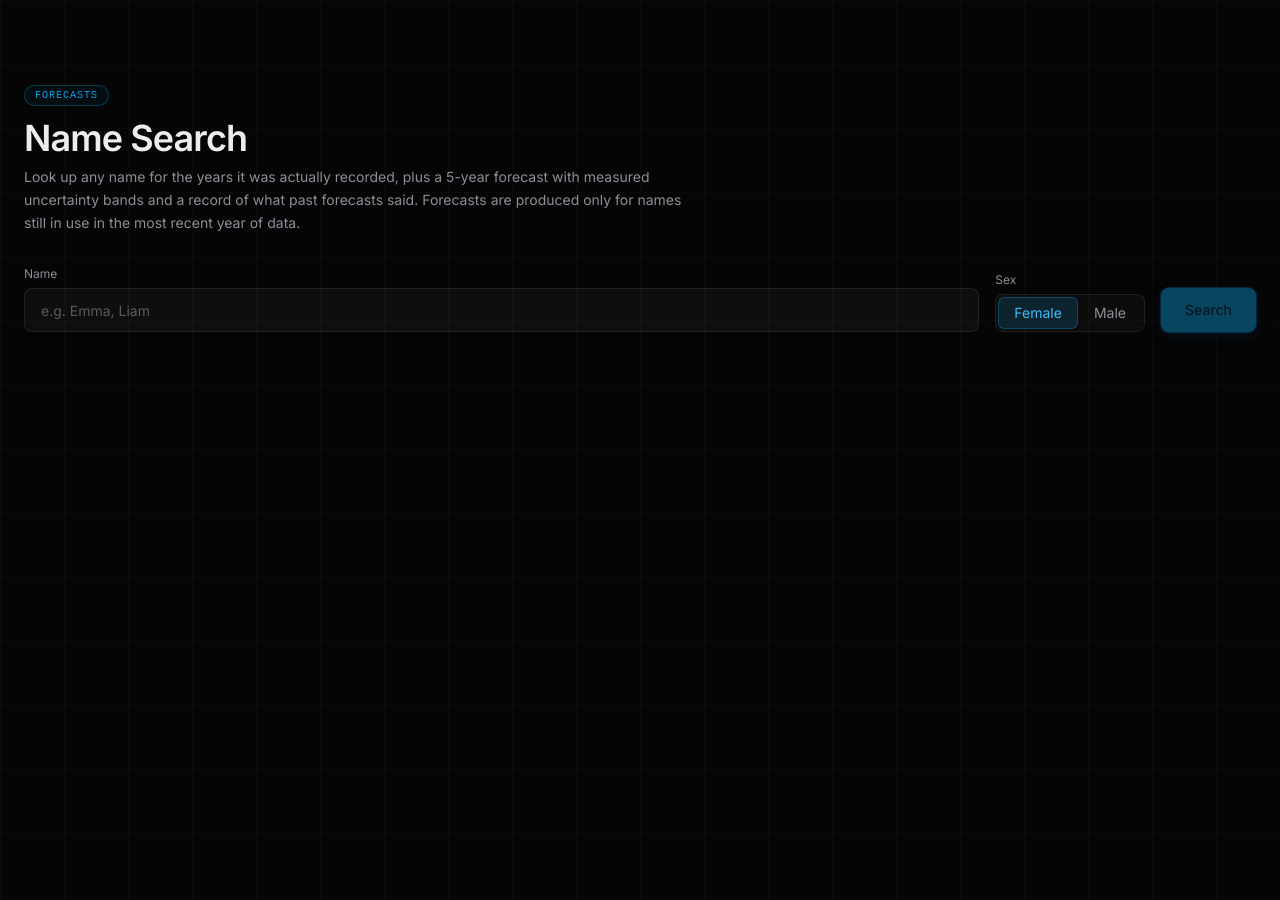
it: SearchPage headline statistics › describes the most recent recorded year and names the comparison year
The width and height of the screenshot is (1280, 900).
In the field labelled "Name": (502, 310) [24,288,979,332], type "Debra"
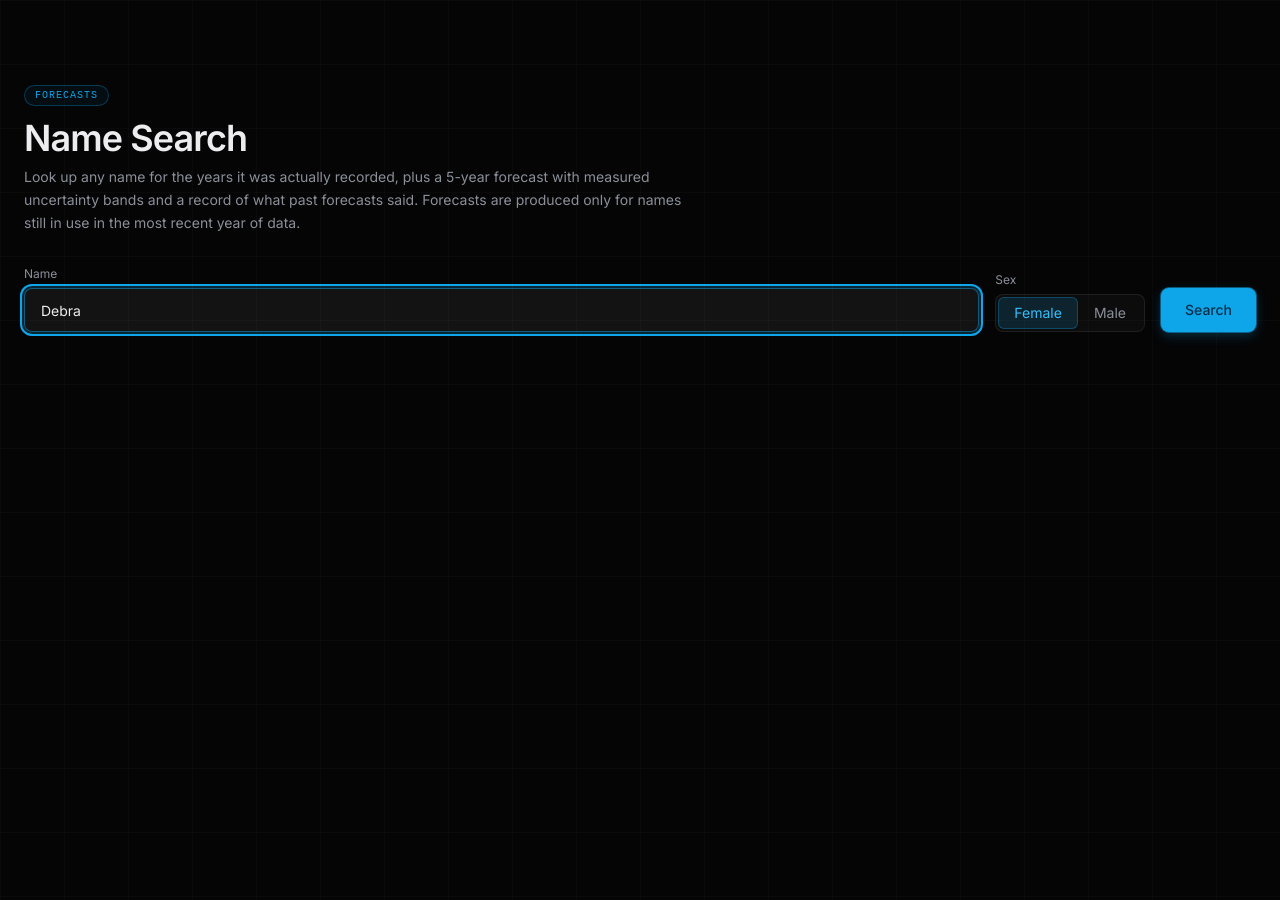
Click the button "Search": (1208, 310) [1161,288,1256,332]
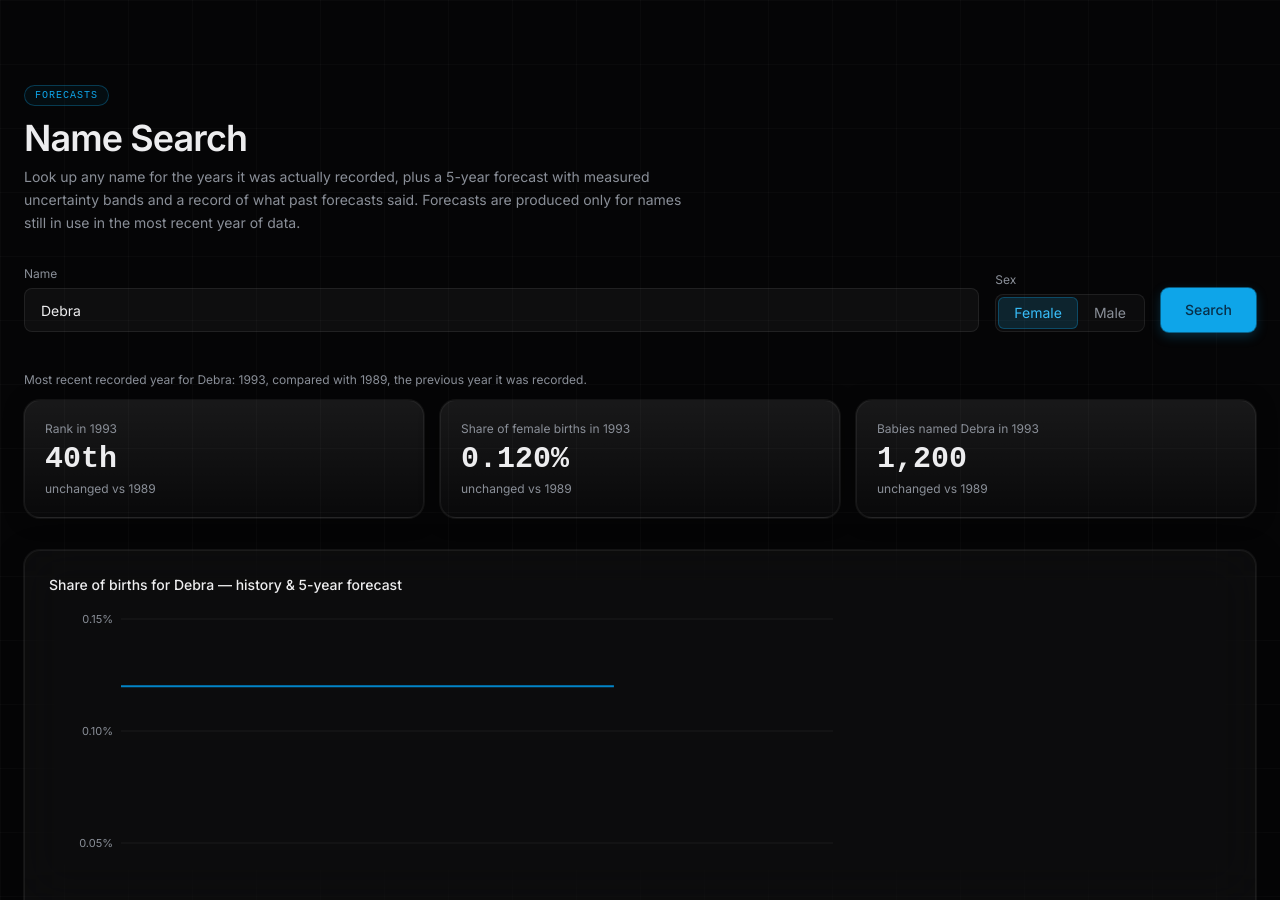
Expected: the text "Most recent recorded year" shows "1993", [24,372,587,387]
Expected: the text "Most recent recorded year" shows "1989", [24,372,587,387]
Expected: the text "unchanged vs 1989" below "Rank in 1993" is shown, [45,481,156,496]
